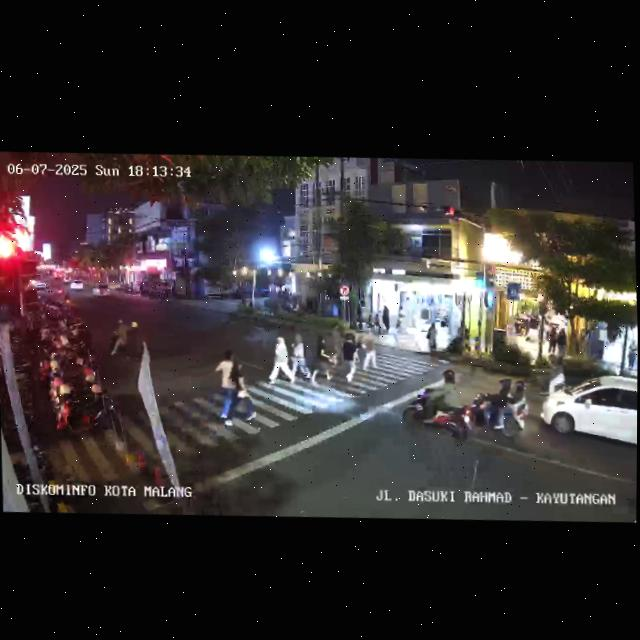car: (537, 372, 637, 451), (91, 281, 112, 301), (69, 279, 83, 292)
motorcycle: (398, 365, 473, 447), (464, 374, 531, 443), (103, 316, 143, 361), (65, 291, 71, 305), (56, 285, 62, 296)
person: (221, 359, 257, 428), (212, 346, 238, 429), (267, 335, 296, 385), (286, 331, 312, 381), (308, 334, 331, 387), (338, 333, 360, 385), (123, 320, 141, 363), (359, 331, 377, 373), (332, 323, 348, 367), (425, 321, 438, 350), (554, 329, 567, 358), (627, 339, 638, 368), (547, 326, 557, 355), (382, 305, 390, 334)
